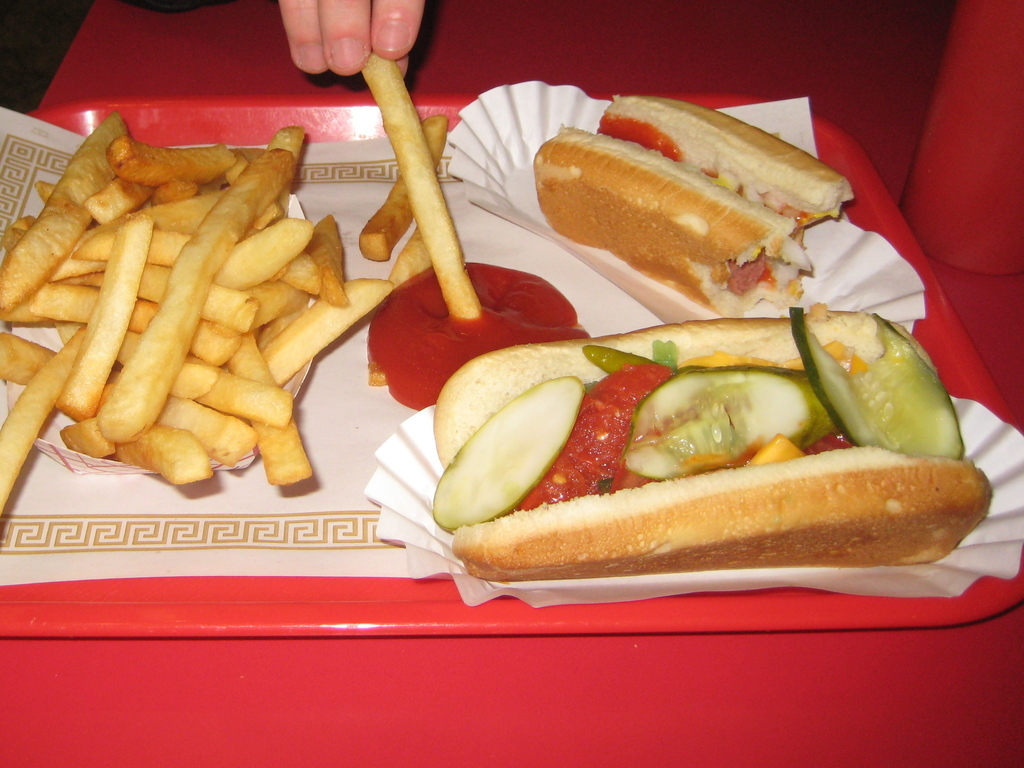French fries: (0, 103, 386, 526)
